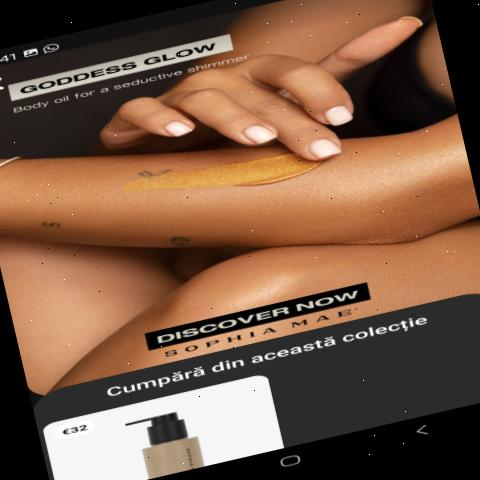hands: (50, 0, 465, 235)
